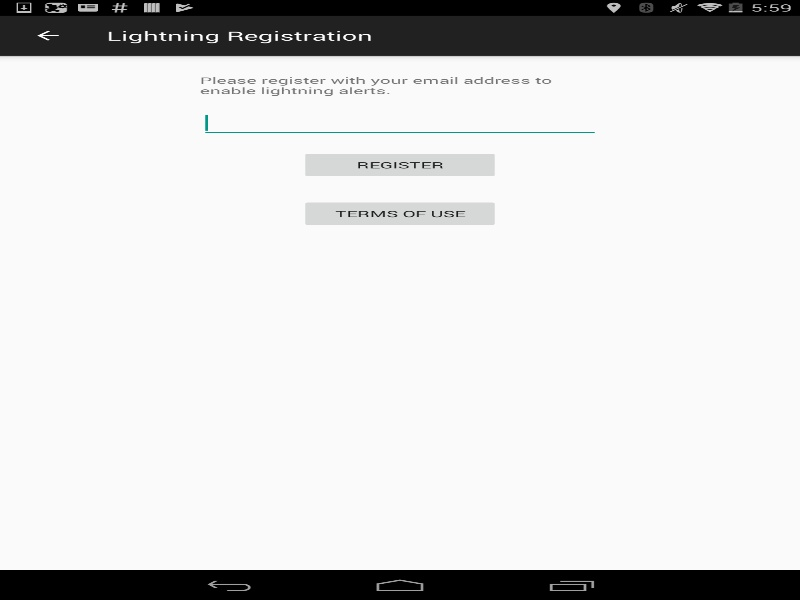Button: (300, 150, 500, 180), (300, 198, 500, 228), (10, 15, 85, 55)
Input: (200, 109, 600, 137)
